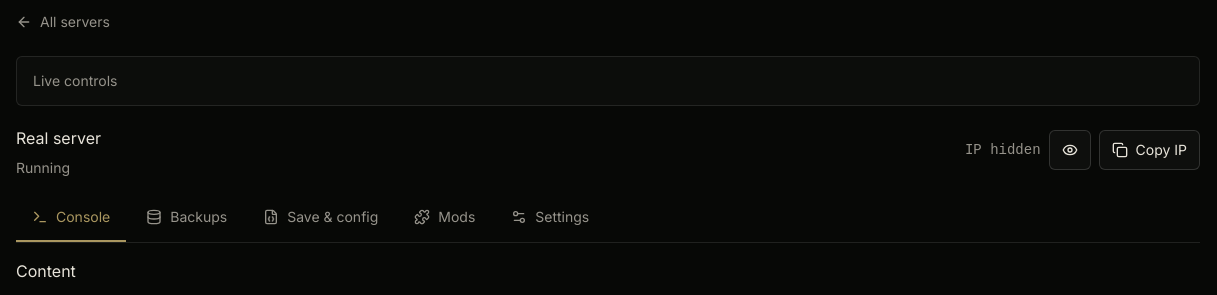
Test case: hides the real address until revealed and copies it without navigation
Expected: the text "203.0.113.8" is not shown
Click the button "Copy IP" at point(1149, 150), box [1099,130,1200,170]
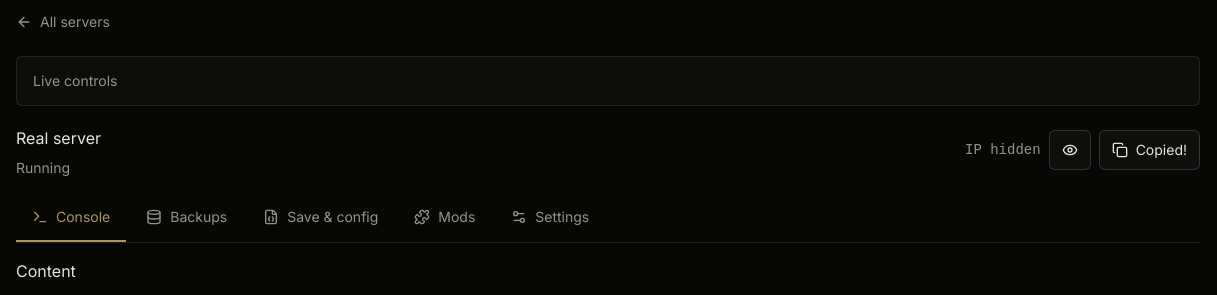
Expected: the 2nd icon is shown, [1062,142,1078,158]
Click the button named "Show server IP and port" at point(1070, 150), box [1049,130,1091,170]
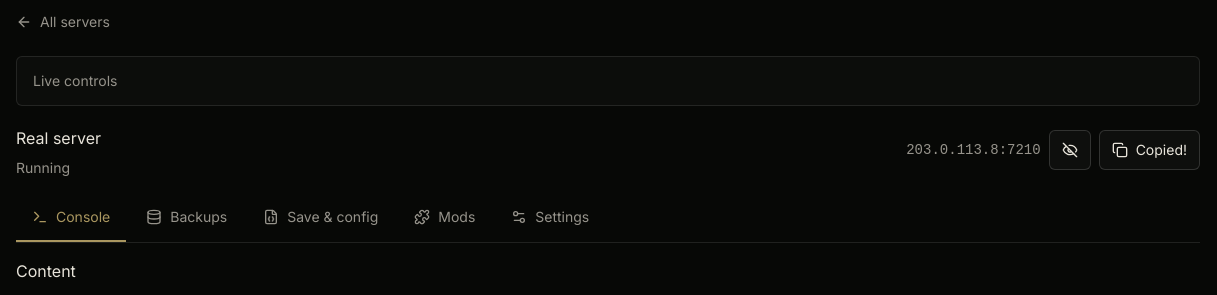
Result: the text with id "server-address" reads "203.0.113.8:7210" at [906,142,1041,158]
Click the button named "Hide server IP and port" at point(1070, 150), box [1049,130,1091,170]
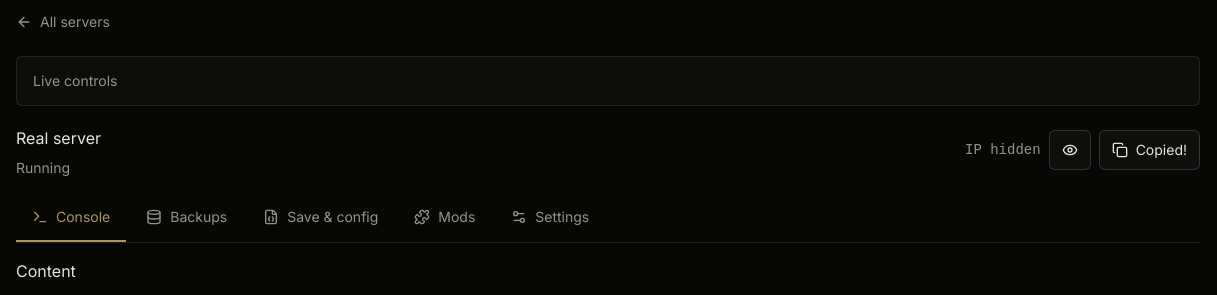
Result: the text with id "server-address" reads "IP hidden" at [965,142,1041,158]
Result: the button named "Show server IP and port" is collapsed at [1049,130,1091,170]
